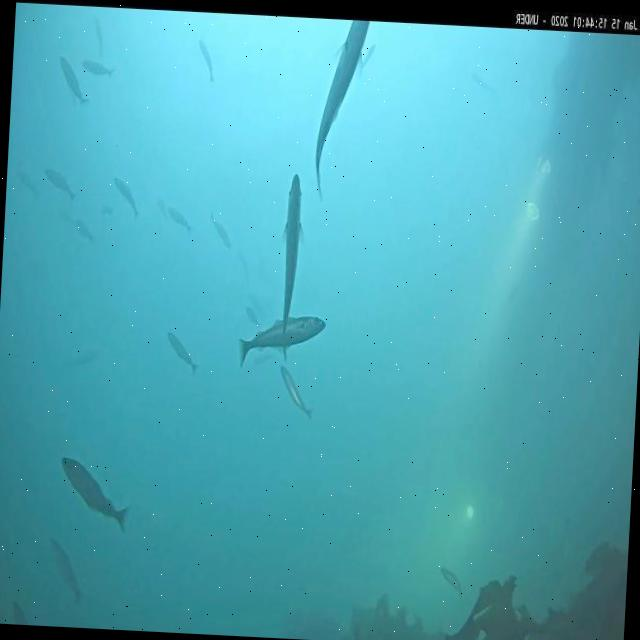fish: (313, 18, 370, 202), (59, 457, 133, 537), (238, 313, 326, 374), (276, 174, 304, 362), (44, 538, 84, 602), (276, 367, 314, 421), (59, 58, 90, 106), (165, 332, 200, 372), (43, 167, 76, 197), (114, 176, 138, 215), (197, 40, 217, 83), (208, 214, 232, 248), (167, 207, 194, 236), (438, 566, 462, 592), (80, 61, 114, 78), (74, 220, 95, 242), (95, 20, 106, 58), (364, 44, 374, 70)
